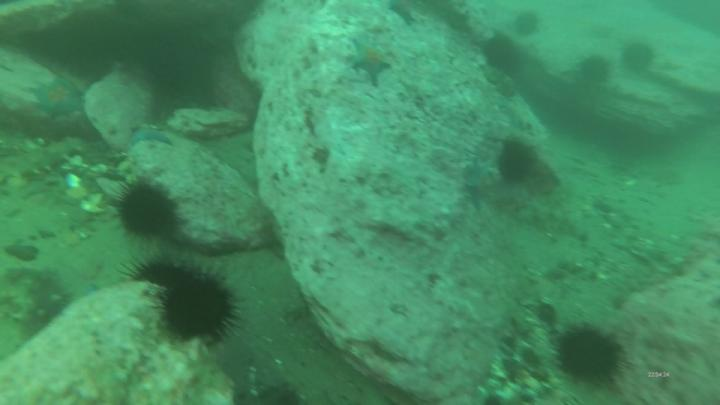echinus: (165, 275, 232, 340), (563, 328, 625, 381), (122, 185, 175, 237), (483, 36, 521, 73), (501, 143, 535, 178), (623, 44, 652, 71), (515, 12, 539, 35), (583, 58, 606, 79)
starfish: (34, 80, 86, 114), (354, 44, 390, 78), (469, 163, 495, 202), (133, 126, 169, 146)
